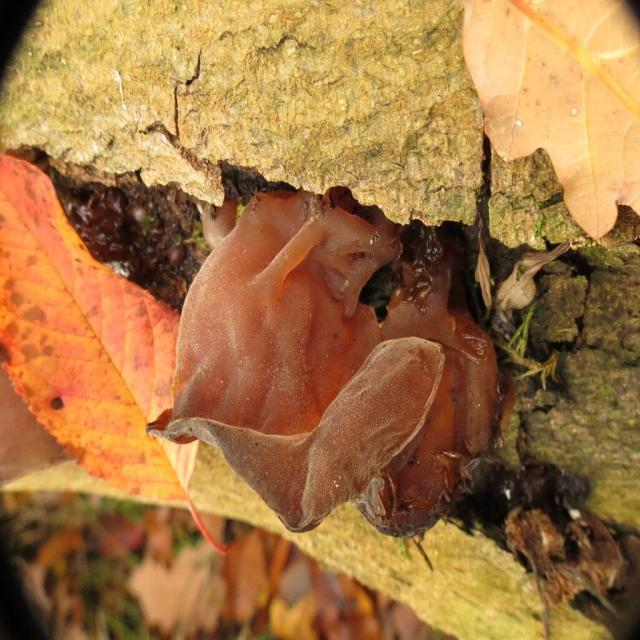Matang: (142, 190, 504, 541)
